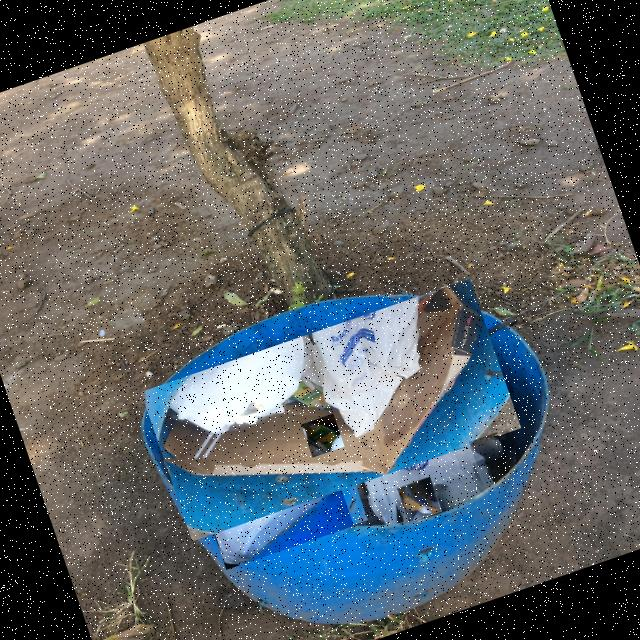Cigarette: (217, 326, 221, 327)
Drink carton: (302, 421, 340, 452)
Paper cup: (469, 439, 503, 464)
Pizza box: (164, 285, 482, 475)
Plastic film: (398, 480, 440, 514)
Plastic straw: (200, 446, 219, 472), (206, 442, 225, 466)
Single-use carrier bag: (330, 367, 495, 525), (213, 435, 348, 564)
